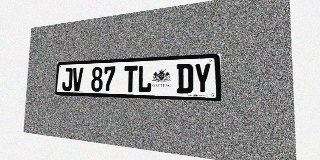7: (103, 66, 115, 92)
8: (91, 67, 103, 92)
D: (177, 63, 193, 94)
J: (62, 68, 73, 91)
L: (137, 65, 152, 93)
T: (124, 65, 138, 92)
V: (72, 67, 83, 91)
Y: (194, 63, 211, 94)
